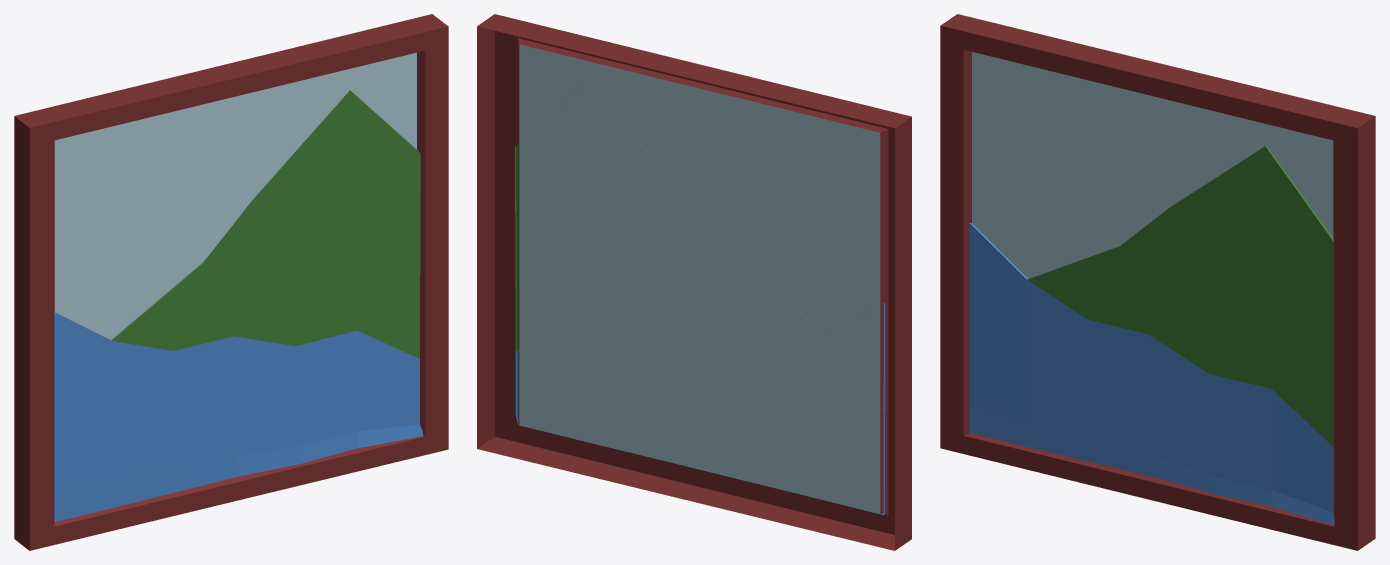
File: Picture_13.fbx
3 renders of one model, left to right at view 1: azimuth 30°, elevation 25°; view 2: azimuth 150°, elevation 25°; view 3: azimuth 330°, elevation 25°, orthographic.
Visible parts, largest first — view 1: Picture_13; view 2: Picture_13; view 3: Picture_13.
Part boxes in pixels (box(x1,y1,x2,y2)): Picture_13: box(14, 14, 448, 550); Picture_13: box(477, 14, 911, 550); Picture_13: box(940, 14, 1375, 550).
Size of the model in its own units: 67.91 by 4.79 by 65.52.
